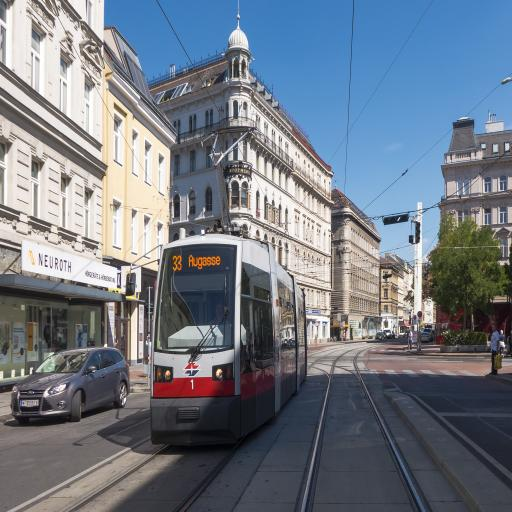ULF: (148, 237, 304, 441)
